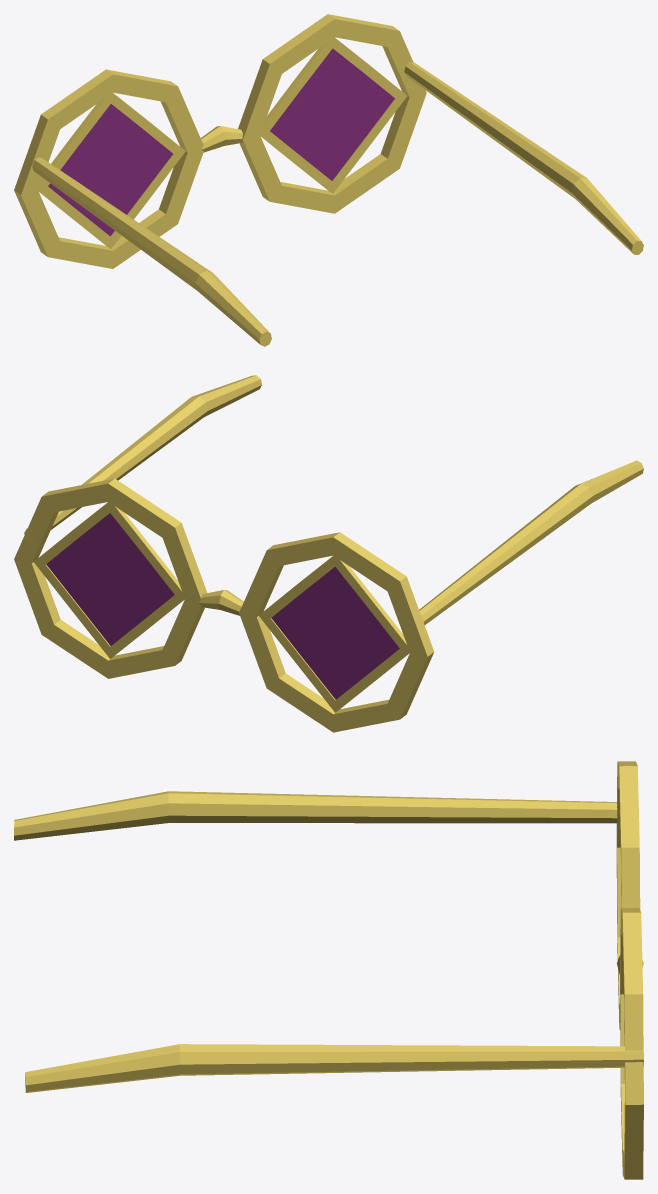
File: lunettes.glb
3 views of the same model, one above another, from view 1: azimuth 30°, elevation 25°; view 2: azimuth 150°, elevation 25°; view 3: azimuth 270°, elevation 25° (orthographic). The views are drawn at different scales.
Parts seen in each view (by area): view 1: lunettes.003; view 2: lunettes.003; view 3: lunettes.003.
Part boxes in pixels (x1,y1,x2,y2): lunettes.003: (14,14,643,346); lunettes.003: (14,375,643,732); lunettes.003: (14,761,643,1179).
Bounding box in the file's own units: 0.7329 × 0.3332 × 0.7257.
